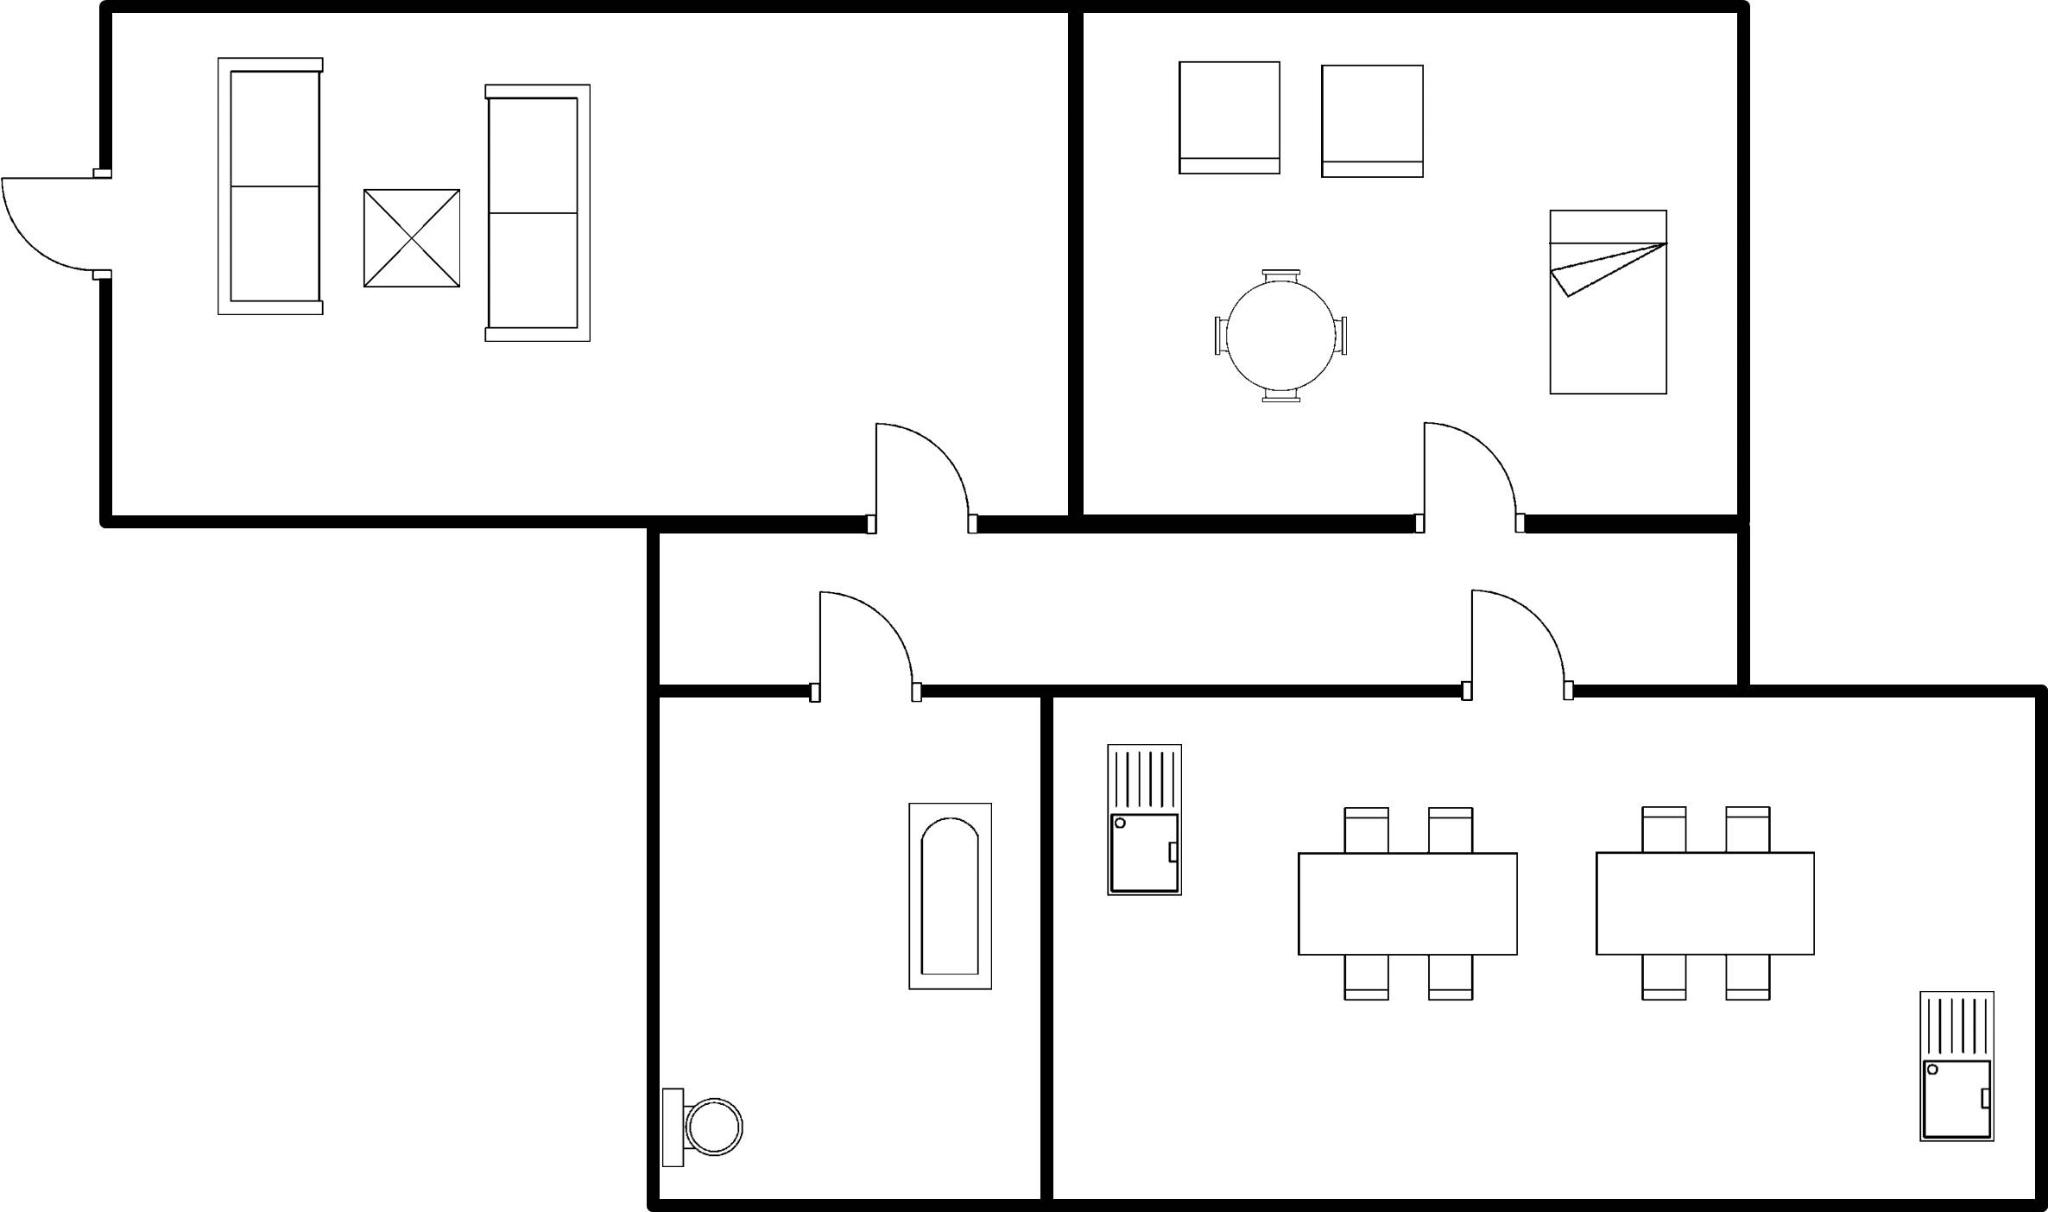bed: (1536, 193, 1679, 408)
dining_table: (1586, 794, 1835, 1013), (1282, 794, 1527, 1013)
round_table: (1203, 260, 1357, 414)
sink: (1093, 732, 1194, 908), (1902, 980, 2005, 1149)
sofa: (203, 45, 336, 329), (476, 69, 604, 351)
toilet: (652, 1078, 753, 1180)
tub: (890, 788, 1004, 1003)
